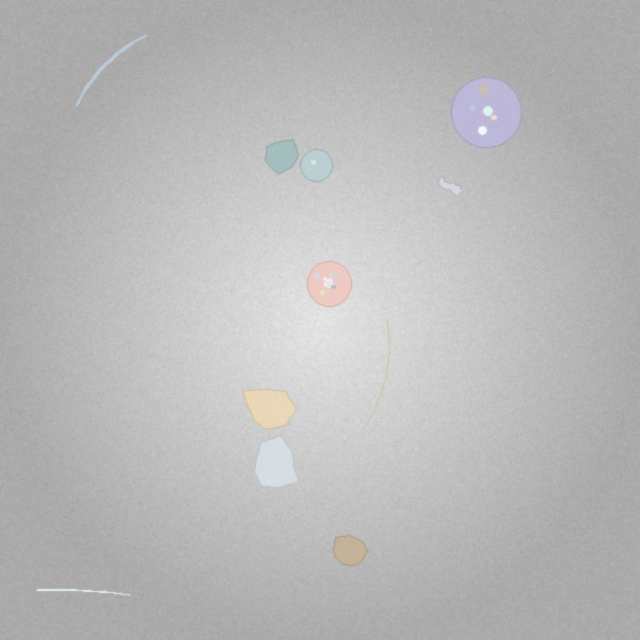fiber: (73, 32, 150, 109), (363, 320, 391, 428), (35, 586, 132, 597)
film: (438, 175, 463, 197)
foam: (451, 77, 521, 148), (307, 262, 352, 306)
fragment: (254, 435, 299, 487), (243, 390, 297, 430), (266, 139, 299, 175), (333, 536, 367, 566)
pellet: (301, 150, 333, 182)
